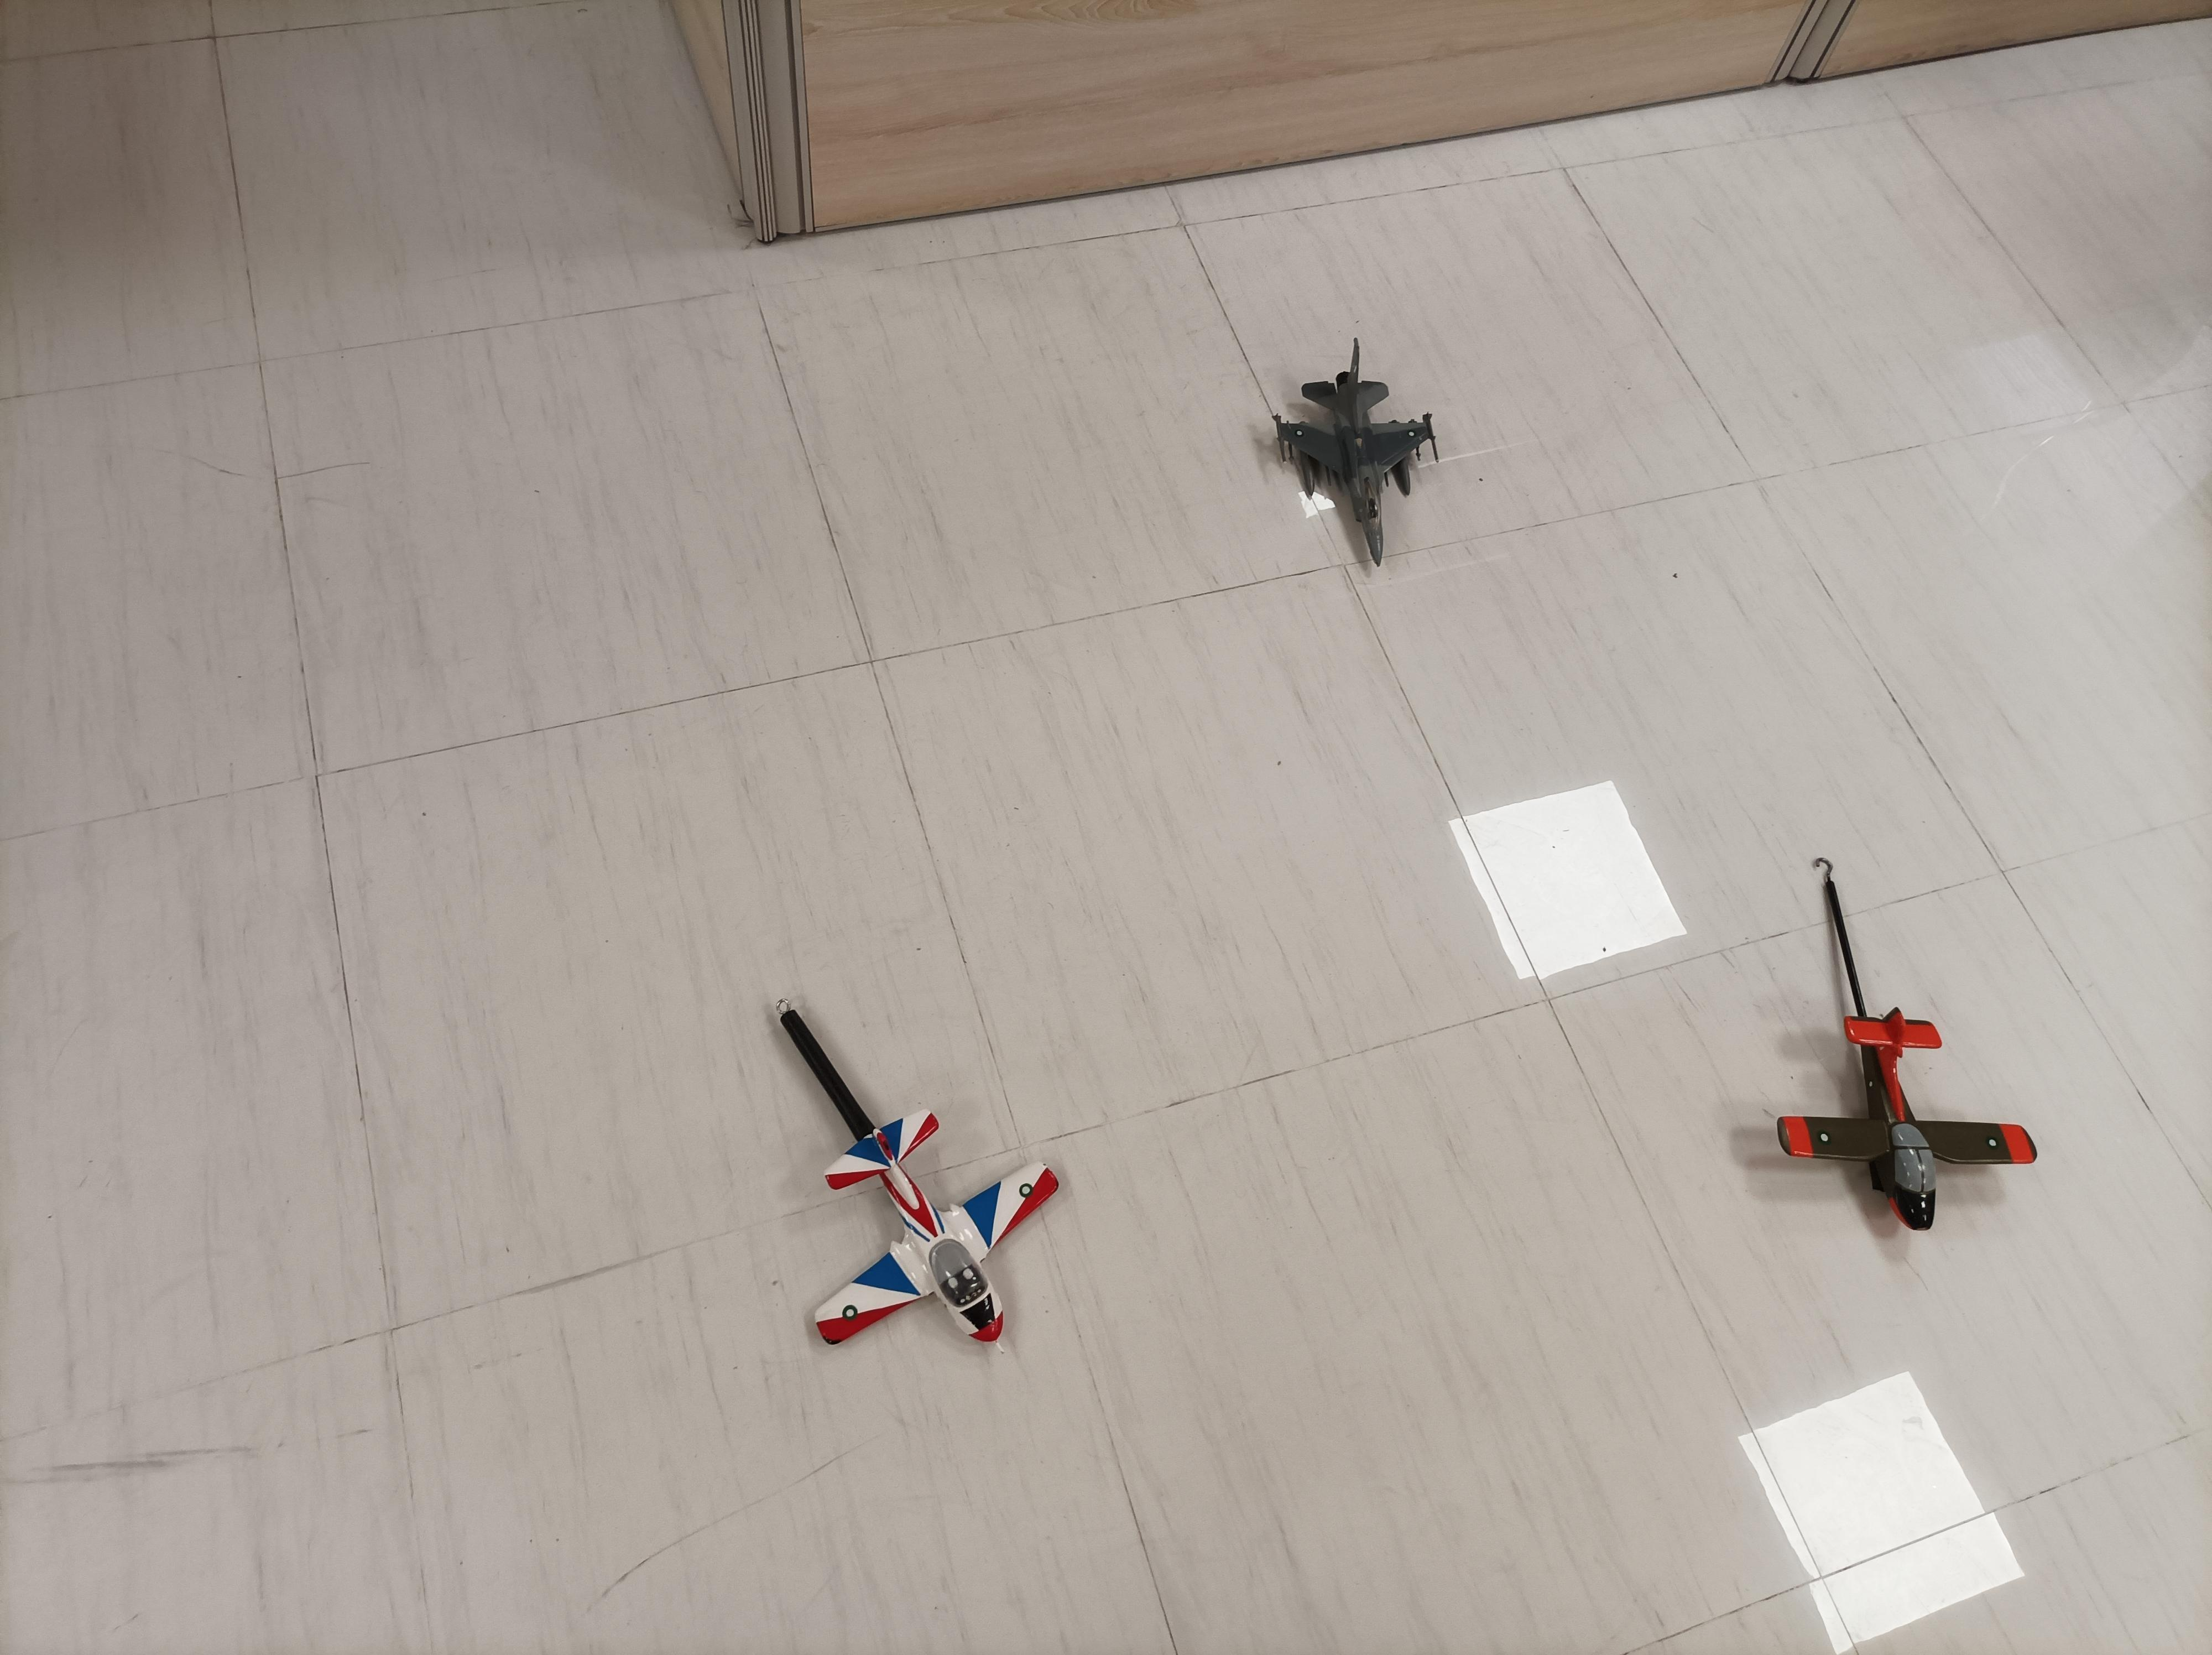Airplane: (1769, 987, 2057, 1241), (789, 1104, 1072, 1358), (1268, 329, 1449, 584)
